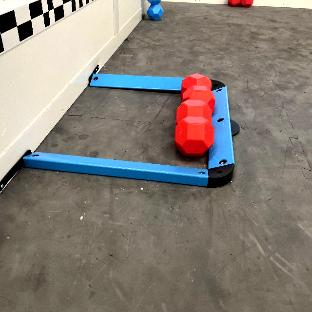Parking - Part: (24, 74, 235, 187)
V5_BLUE: (148, 0, 162, 20)
V5_RED: (174, 74, 215, 156), (228, 0, 240, 6), (241, 0, 252, 6)
